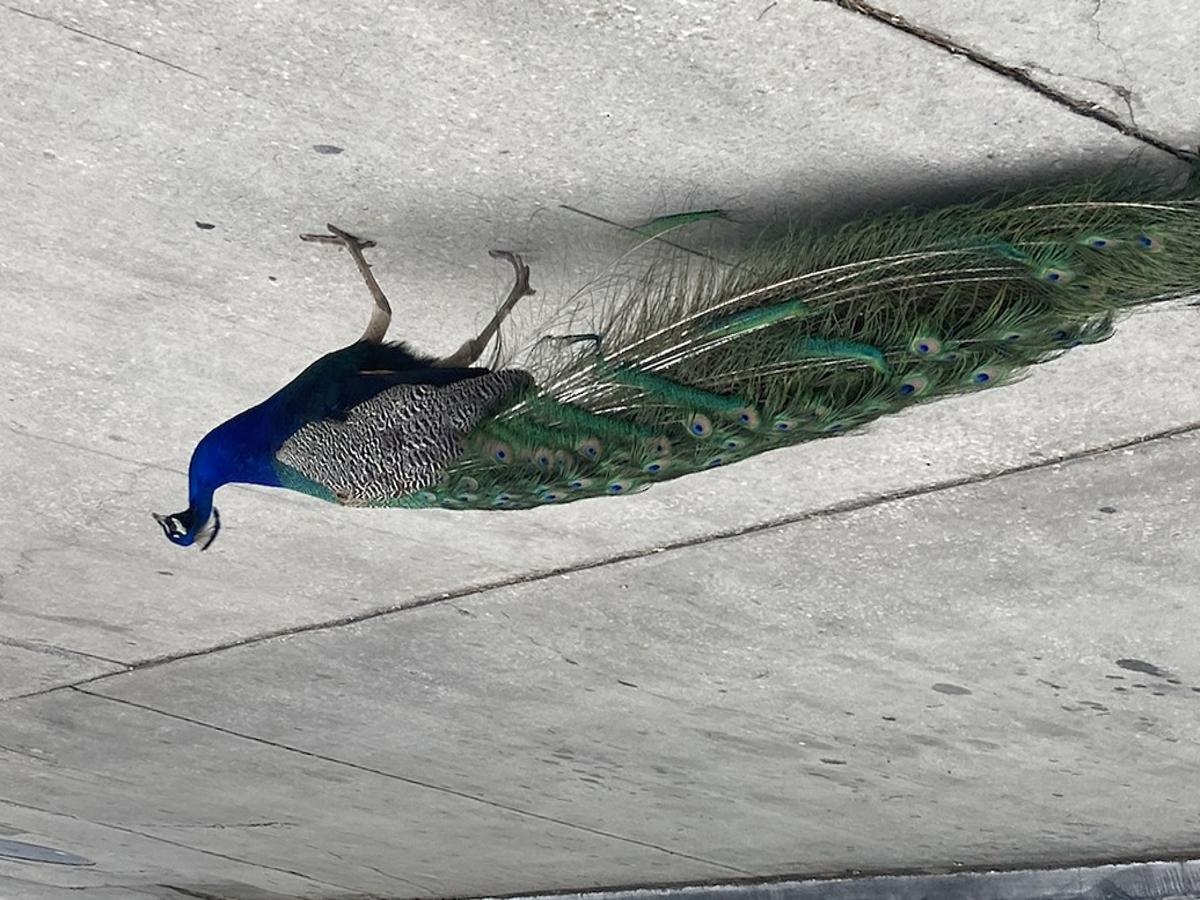peacock: (107, 73, 1165, 601)
